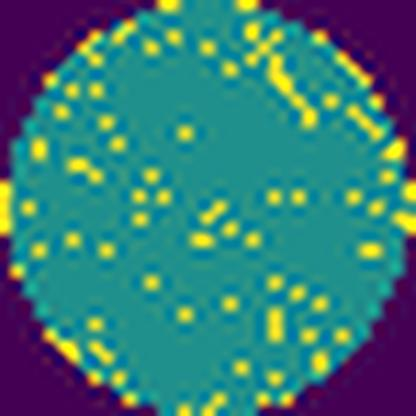Scratch: (239, 18, 320, 131)
